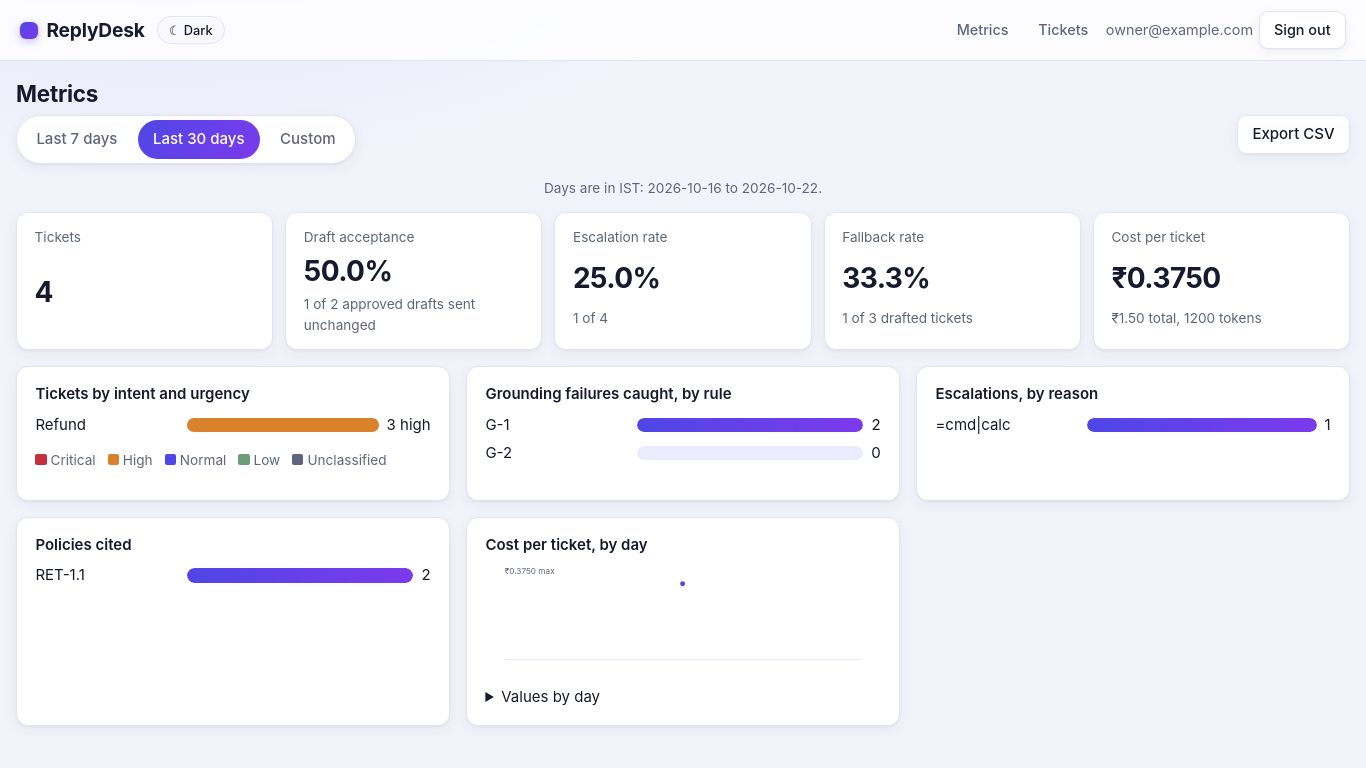
Test: the metrics page › offers dates for a custom range
This screenshot has width=1366, height=768.
expect the text "50.0%" is shown: met, box [304,254,392,288]
Click the button "Custom": (308, 140) [265,120,351,159]
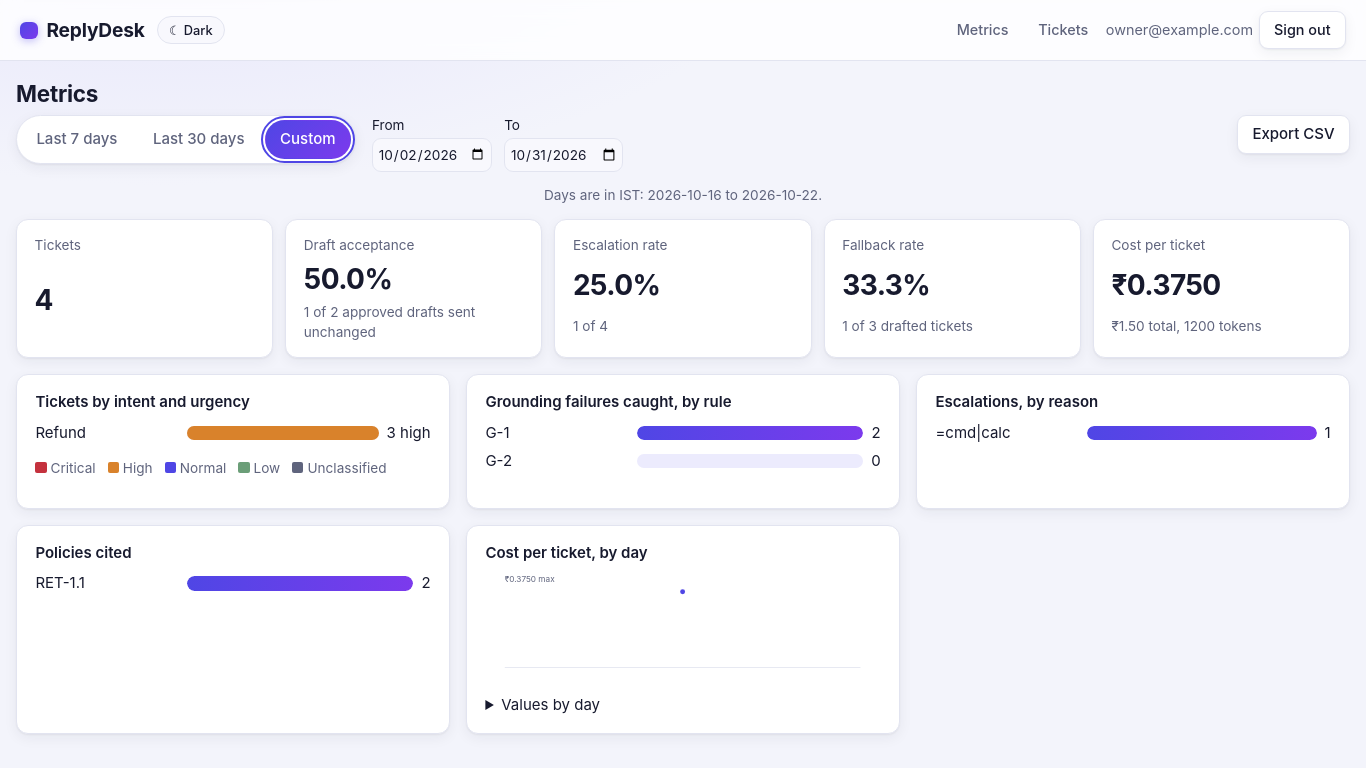
expect the date field labelled "From" is shown: met, box [372,138,492,172]
expect the date field labelled "To" is shown: met, box [504,138,623,172]
